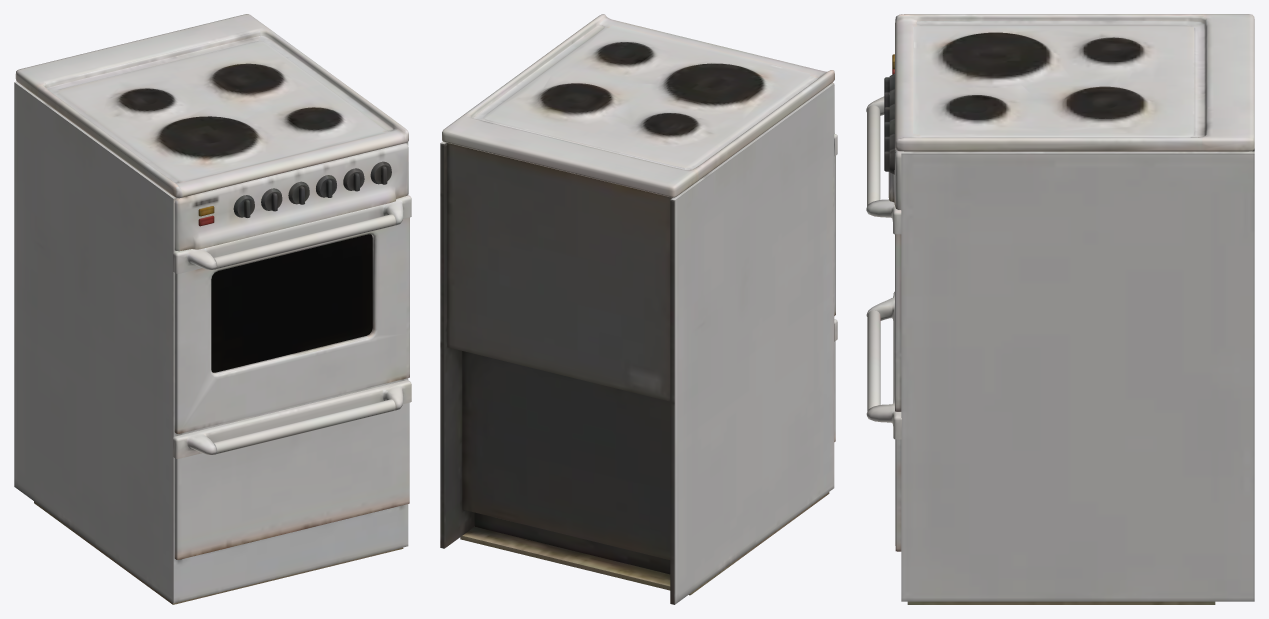
File: electric_stove.glb
3 renders of one model, left to right at view 1: azimuth 30°, elevation 25°; view 2: azimuth 150°, elevation 25°; view 3: azimuth 270°, elevation 25°, orthographic. The views are drawn at different scales.
Parts seen in each view (by area): view 1: stovetop, door_top; view 2: stovetop; view 3: stovetop.
Boxes of the visible parts, left/top/right/bottom form: stovetop: left=14, top=14, right=411, bottom=604; door_top: left=211, top=234, right=372, bottom=372; stovetop: left=440, top=14, right=837, bottom=604; stovetop: left=866, top=14, right=1254, bottom=604.
Size of the model in its own units: 0.5026 by 0.8587 by 0.6477.
2 materials, 2 textured.
